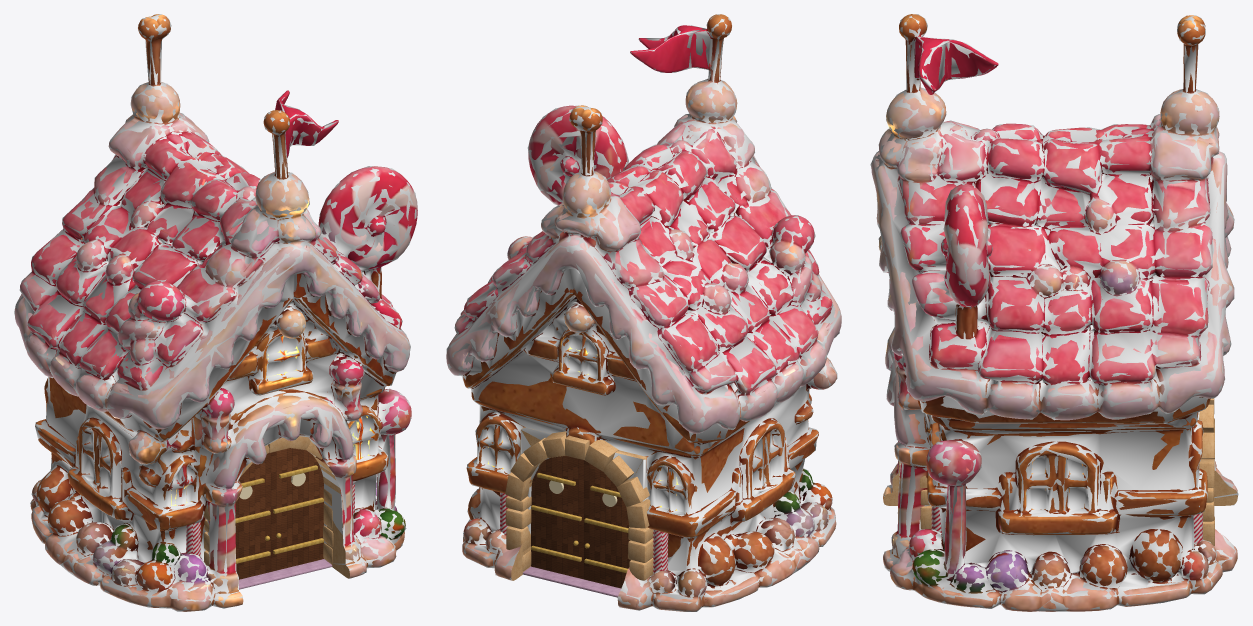
Rendered from GIN_BLD_CandyCaneCottage.fbx.
The picture shows the model from 3 angles, left to right: view 1: azimuth 30°, elevation 25°; view 2: azimuth 150°, elevation 25°; view 3: azimuth 270°, elevation 25°; orthographic projection. The views are drawn at different scales.
Parts seen in each view (by area): view 1: GIN_BLD_CandyCaneCottage, COL_GIN_BLD_CandyCaneCottage_Shell, GIN_BLD_CandyCaneCottage_Door_FR, GIN_BLD_CandyCaneCottage_Door_FL, GIN_BLD_CandyCaneCottage_Frame; view 2: GIN_BLD_CandyCaneCottage, COL_GIN_BLD_CandyCaneCottage_Shell, GIN_BLD_CandyCaneCottage_Frame, GIN_BLD_CandyCaneCottage_Door_BL, GIN_BLD_CandyCaneCottage_Door_BR; view 3: GIN_BLD_CandyCaneCottage, COL_GIN_BLD_CandyCaneCottage_Shell, GIN_BLD_CandyCaneCottage_Frame.
Part boxes in pixels (x1,y1,x2,y2): GIN_BLD_CandyCaneCottage: (14, 14, 417, 611); COL_GIN_BLD_CandyCaneCottage_Shell: (14, 14, 416, 611); GIN_BLD_CandyCaneCottage_Door_FR: (265, 448, 323, 571); GIN_BLD_CandyCaneCottage_Door_FL: (235, 452, 281, 579); GIN_BLD_CandyCaneCottage_Frame: (186, 436, 356, 589); GIN_BLD_CandyCaneCottage: (446, 14, 841, 611); COL_GIN_BLD_CandyCaneCottage_Shell: (446, 14, 840, 611); GIN_BLD_CandyCaneCottage_Frame: (500, 431, 668, 597); GIN_BLD_CandyCaneCottage_Door_BL: (531, 455, 589, 579); GIN_BLD_CandyCaneCottage_Door_BR: (573, 460, 630, 588); GIN_BLD_CandyCaneCottage: (871, 14, 1237, 611); COL_GIN_BLD_CandyCaneCottage_Shell: (870, 14, 1238, 611); GIN_BLD_CandyCaneCottage_Frame: (920, 398, 1214, 546).
Size of the model in its own units: 19.35 by 28.02 by 18.12.
